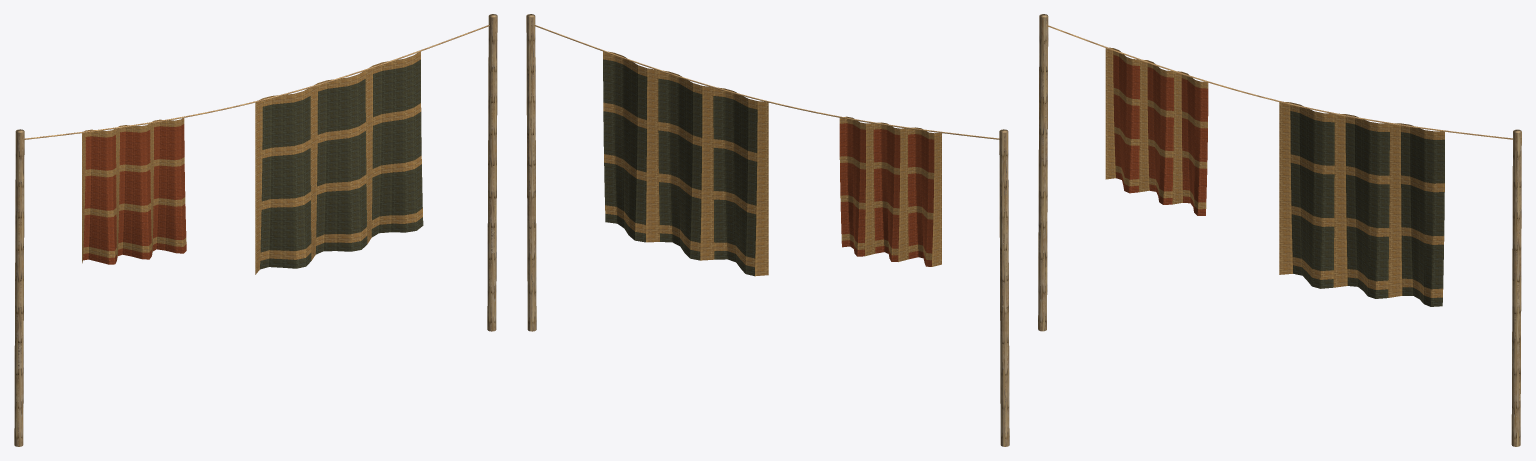
Rendered from prop_clothesline.glb.
3 views of the same model, side by side, from view 1: azimuth 30°, elevation 25°; view 2: azimuth 150°, elevation 25°; view 3: azimuth 330°, elevation 25° (orthographic).
Visible parts, largest first — view 1: prop_clothesline; view 2: prop_clothesline; view 3: prop_clothesline.
Part boxes in pixels (x1,y1,x2,y2): prop_clothesline: (14,14,497,446); prop_clothesline: (526,14,1009,446); prop_clothesline: (1038,14,1521,446).
Size of the model in its own units: 3.06 by 1.9 by 0.1112.
5 materials, 5 textured.
